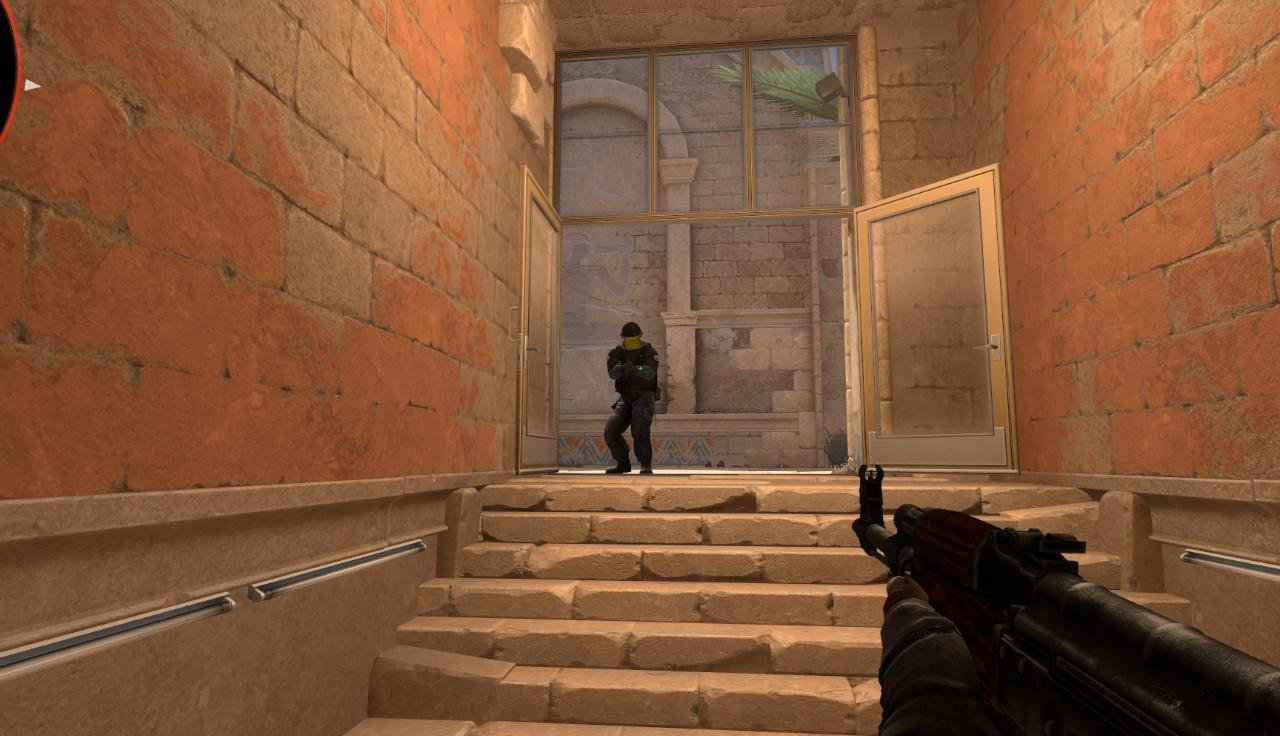ct: (603, 320, 660, 470)
cthead: (620, 321, 643, 350)
rifle: (855, 467, 1280, 733)
